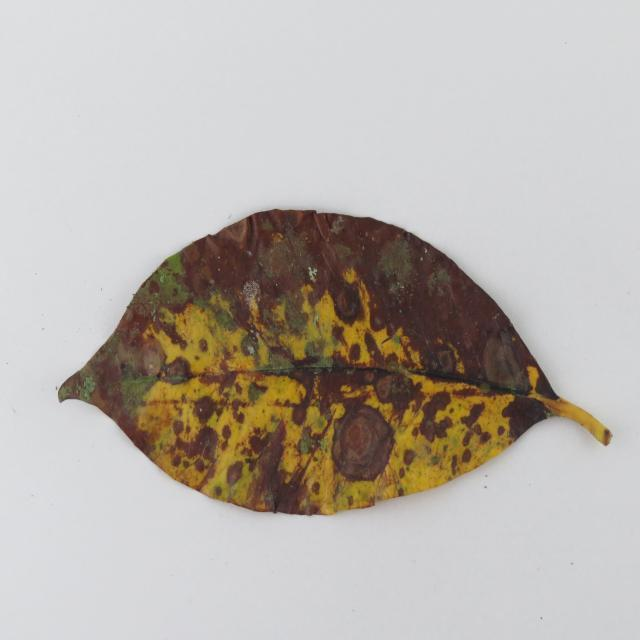DeficienciaNutricional-Potasio: (59, 210, 611, 513)
